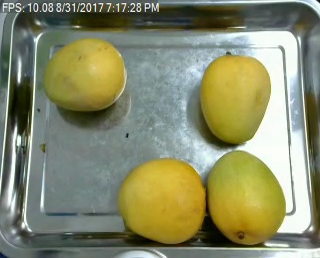Mango: (117, 160, 207, 242), (205, 150, 285, 242), (197, 55, 271, 145), (46, 39, 126, 109)
